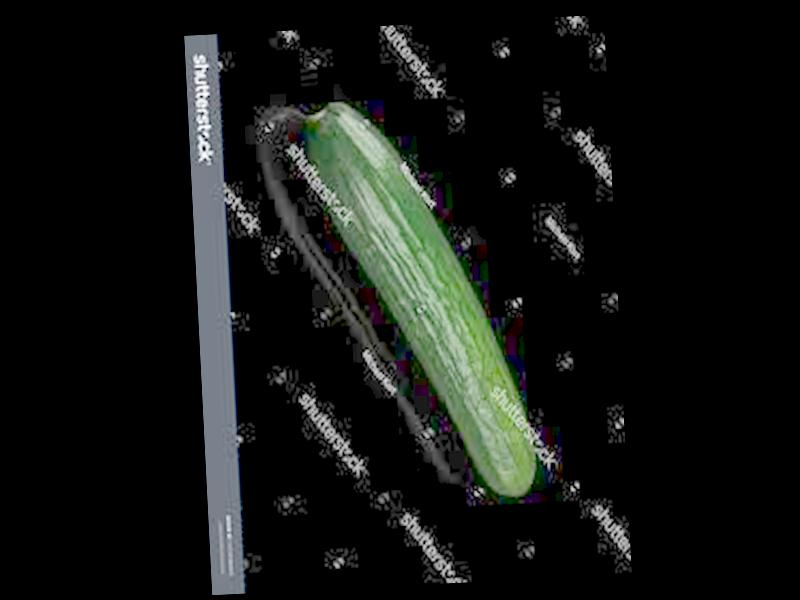Cucumber: (300, 93, 539, 508)
